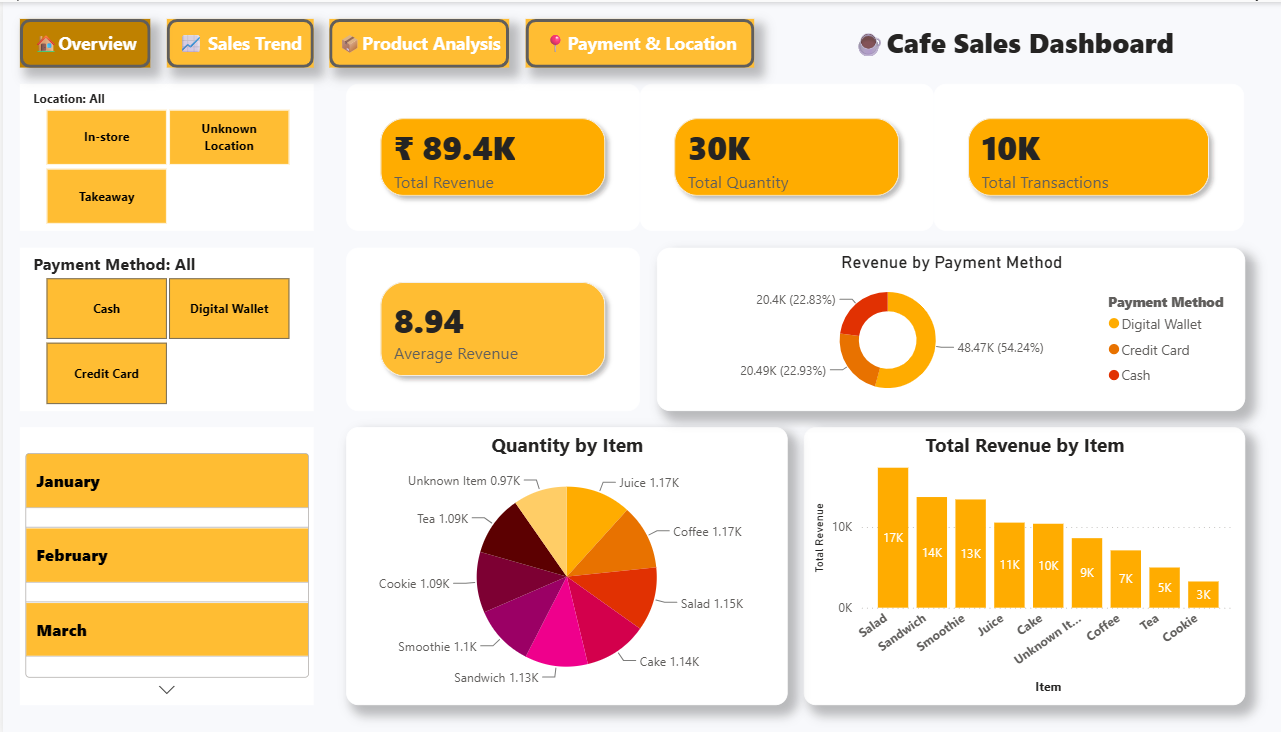

Layout of this report page (visuals, bound fields, positions):
{"tool":"powerbi","page":{"name":"Cafe Sales Dashboard","canvas":[1280,720],"ordinal":0},"visuals":[{"type":"cardVisual","fields":{"Data":["Sum(Table1.total_spent)"]},"box":[336,80,288,144],"z":0},{"type":"cardVisual","fields":{"Data":["Sum(Table1.quantity)"]},"box":[624,80,288,144],"z":1000},{"type":"cardVisual","fields":{"Data":["CountNonNull(Table1.transaction_id)"]},"box":[912,80,304,144],"z":2000},{"type":"clusteredColumnChart","fields":{"Category":["Table1.item"],"Y":["Sum(Table1.total_spent)"]},"box":[784,416,432,272],"z":3000},{"type":"pieChart","fields":{"Y":["CountNonNull(Table1.quantity)"],"Category":["Table1.item"]},"box":[336,416,432,272],"z":4000},{"type":"slicer","fields":{"Values":["Table1.location"]},"box":[16,80,288,144],"z":5000},{"type":"slicer","fields":{"Values":["Table1.payment_method"]},"box":[16,240,288,160],"z":6000},{"type":"cardVisual","fields":{"Data":["Avg(Table1.total_spent)"]},"box":[336,240,288,160],"z":7000},{"type":"cardVisual","fields":{"Rows":["Table1.month_name"],"Data":["Sum(Table1.month)"]},"box":[16,416,288,272],"z":8000},{"type":"donutChart","fields":{"Category":["Table1.payment_method"],"Y":["Sum(Table1.total_spent)"]},"box":[640,240,576,160],"z":9000},{"type":"textbox","box":[624,16,528,48],"z":10000},{"type":"actionButton","box":[160,16,144,48],"z":11000},{"type":"actionButton","box":[320,16,176,48],"z":12000},{"type":"actionButton","box":[512,16,224,48],"z":13000},{"type":"actionButton","box":[16,16,128,48],"z":14000}]}

Visuals, with their boxes in screenshot pixels (x1, y1, x2, y2), scaled from the page's 1280x720 canvas onto the 1281x732 screenshot:
cardVisual - Sum(Table1.total_spent): <region>336, 81, 624, 228</region>
cardVisual - Sum(Table1.quantity): <region>624, 81, 913, 228</region>
cardVisual - CountNonNull(Table1.transaction_id): <region>913, 81, 1217, 228</region>
clusteredColumnChart - Table1.item x Sum(Table1.total_spent): <region>785, 423, 1217, 699</region>
pieChart - CountNonNull(Table1.quantity) x Table1.item: <region>336, 423, 769, 699</region>
slicer - Table1.location: <region>16, 81, 304, 228</region>
slicer - Table1.payment_method: <region>16, 244, 304, 407</region>
cardVisual - Avg(Table1.total_spent): <region>336, 244, 624, 407</region>
cardVisual - Table1.month_name x Sum(Table1.month): <region>16, 423, 304, 699</region>
donutChart - Table1.payment_method x Sum(Table1.total_spent): <region>640, 244, 1217, 407</region>
textbox: <region>624, 16, 1153, 65</region>
actionButton: <region>160, 16, 304, 65</region>
actionButton: <region>320, 16, 496, 65</region>
actionButton: <region>512, 16, 737, 65</region>
actionButton: <region>16, 16, 144, 65</region>
